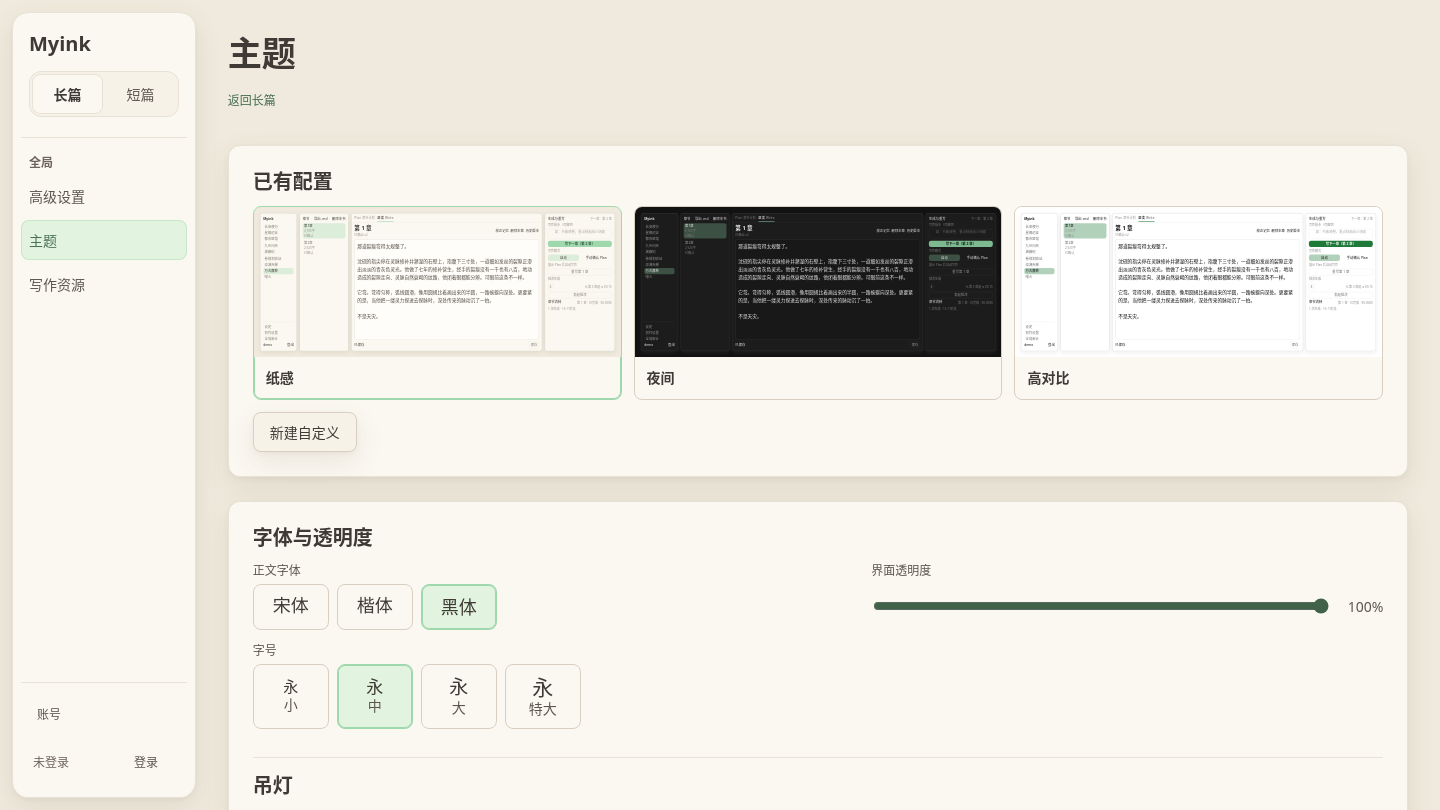
opens a large preview and applies only after confirm
What coordinates should you click on to do the following:
click the button with aria-label "夜间"
I would click on:
 (818, 303)
Its box is [634,206,1002,400].
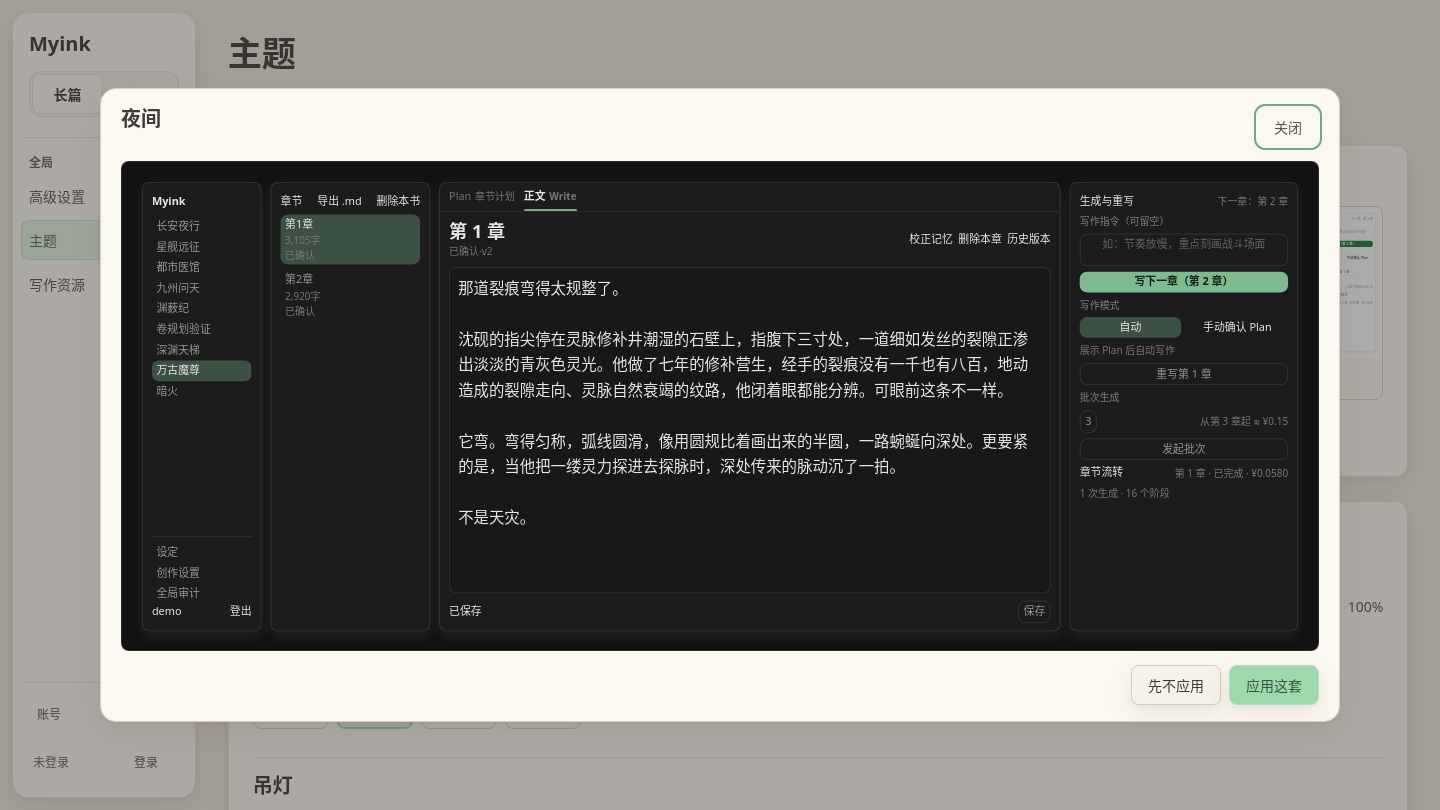
Check: the dialog "夜间" is shown
Check: the dialog "夜间" shows "生成与重写", box [1080,193,1134,209]
Check: the dialog "夜间" shows "写下一章", box [1134,274,1233,289]
What coordinates should you click on to do the following:
click the button "先不应用"
I would click on:
 (1176, 685)
Its box is [1131,665,1221,705].
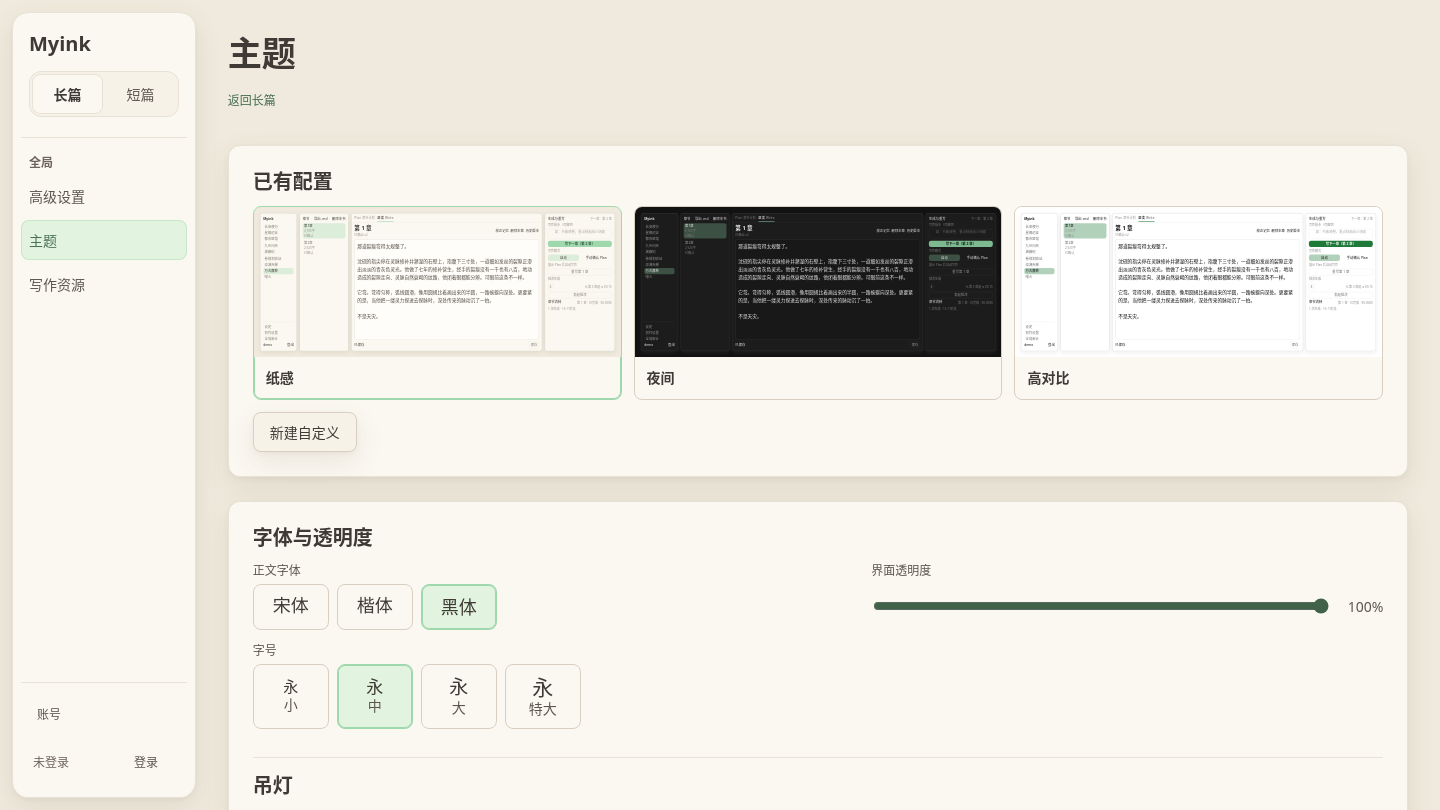
Check: the dialog is gone
What coordinates should you click on to do the following:
click the button with aria-label "夜间"
I would click on:
 (818, 303)
Its box is [634,206,1002,400].
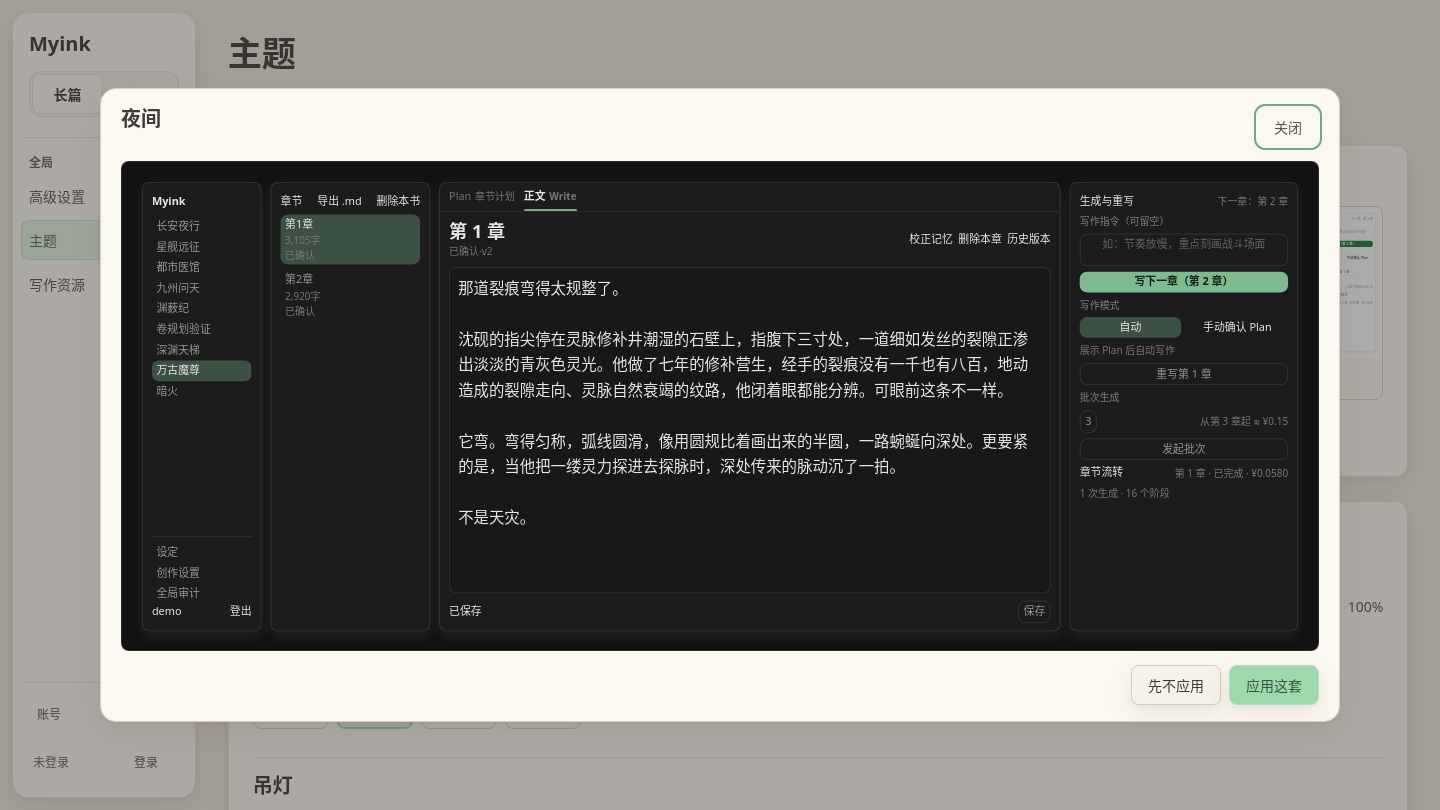
What coordinates should you click on to do the following:
click the button "应用这套"
I would click on:
 (1274, 685)
Its box is [1229,665,1319,705].
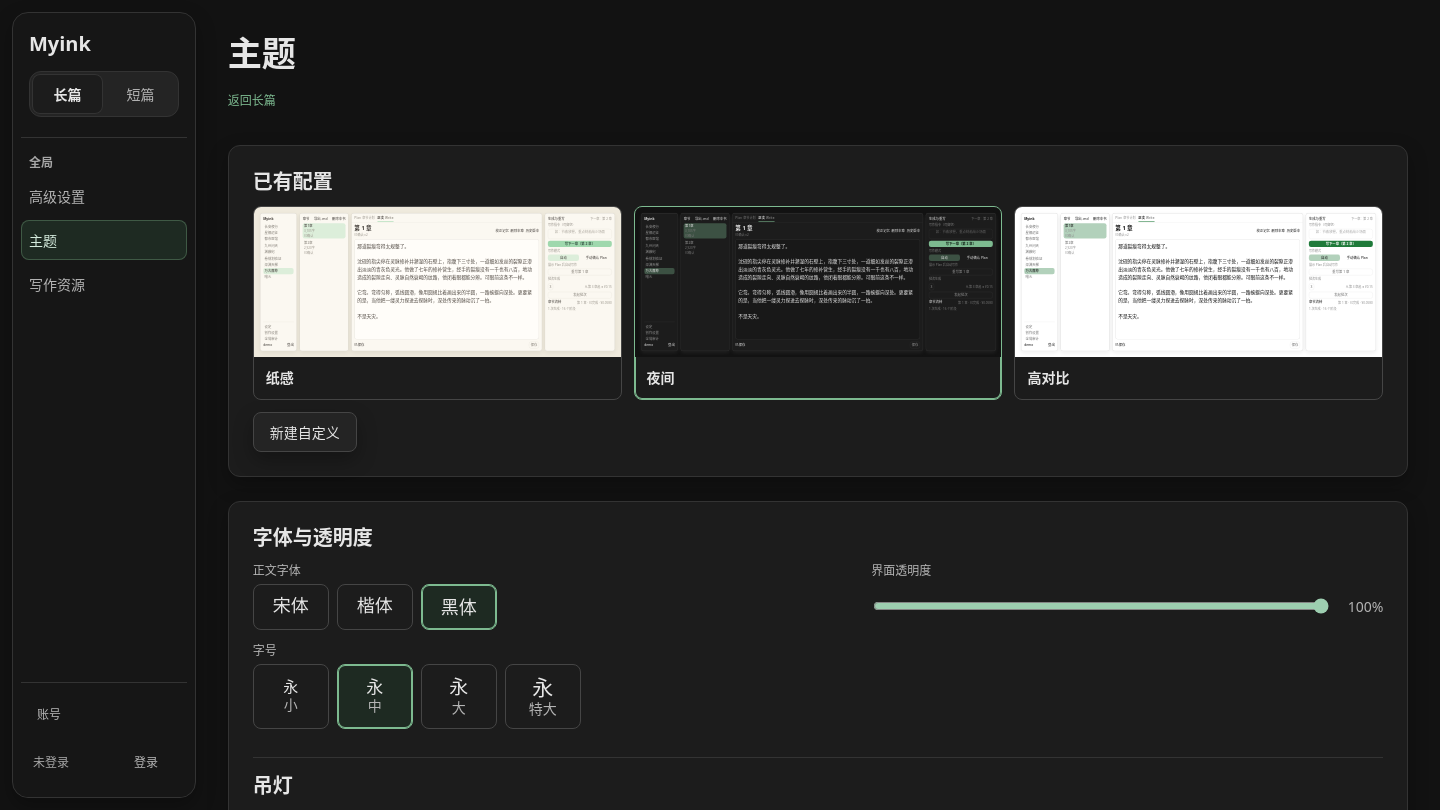
Check: the dialog is gone
